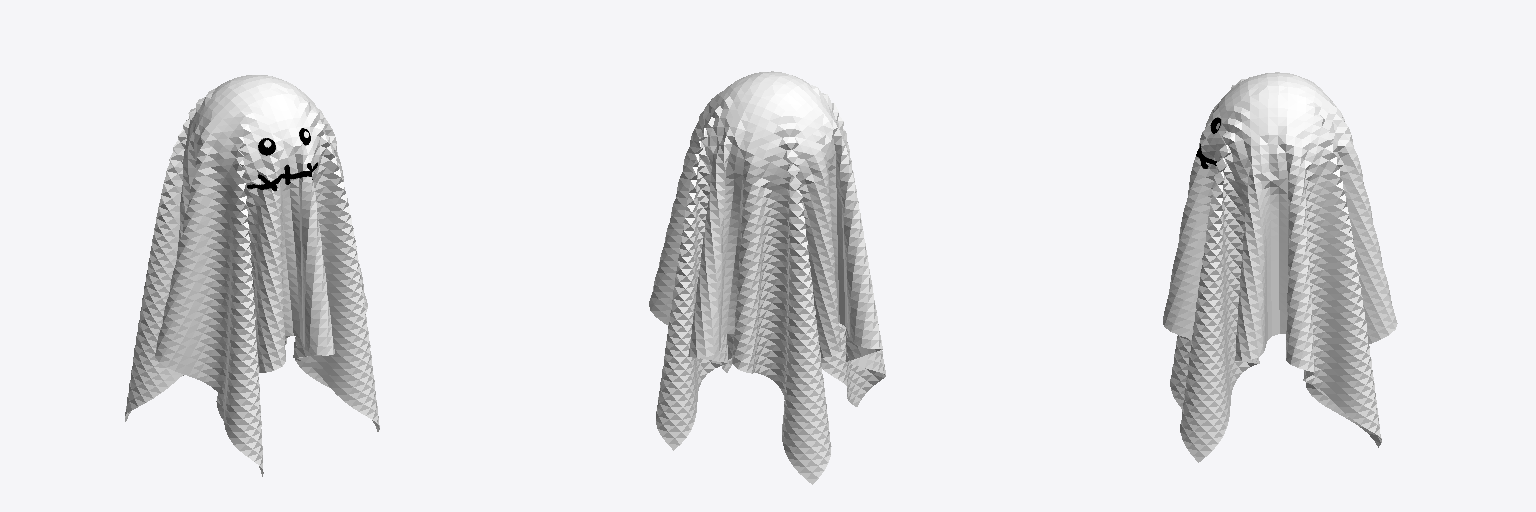
3 renders of one model, left to right at view 1: azimuth 30°, elevation 25°; view 2: azimuth 150°, elevation 25°; view 3: azimuth 270°, elevation 25°, orthographic.
Parts seen in each view (by area): view 1: 平面; view 2: 平面; view 3: 平面.
Part boxes in pixels (x1,y1,x2,y2): 平面: (125,75,379,476); 平面: (649,71,885,484); 平面: (1163,72,1397,462).
Bounding box in the file's own units: 0.915 × 1.46 × 0.8783.
1 materials, 1 textured.